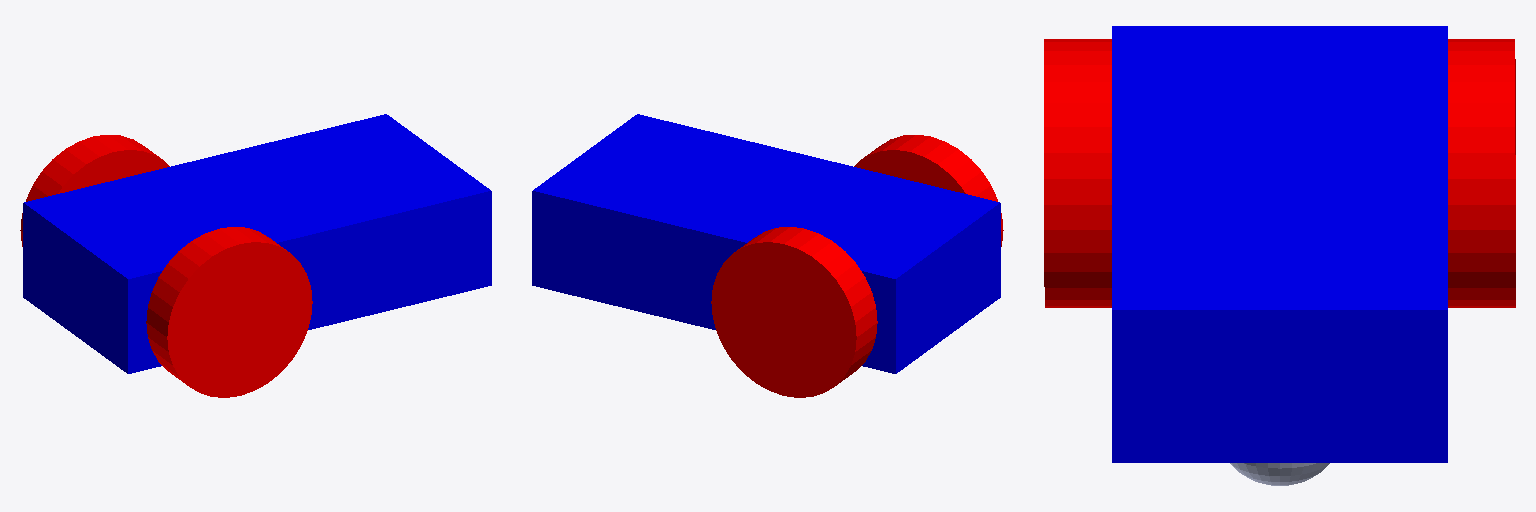
URDF robot description (vehicle_blue):
<robot name="vehicle_blue">
    <link name="caster">
        <inertial>
            <mass value="1"/>
            <origin xyz="0 0 0" rpy="0 -0 0"/>
            <inertia ixx="0.016" ixy="0" ixz="0" iyy="0.016" iyz="0" izz="0.016"/>
        </inertial>
        <visual>
            <origin xyz="0 0 0" rpy="0 -0 0"/>
            <geometry>
                <sphere radius="0.2"/>
            </geometry>
           <material name="">
                <color rgba="0.792156862745098 0.819607843137255 0.933333333333333 1" />
            </material>
        </visual>
        <collision>
            <origin xyz="0 0 0" rpy="0 -0 0"/>
            <geometry>
                <sphere radius="0.2"/>
            </geometry>
        </collision>
    </link>
    <link name="chassis">
        <inertial>
            <mass value="10.144"/>
            <origin xyz="0 0 0" rpy="0 -0 0"/>
            <inertia ixx="0.095329" ixy="0" ixz="0" iyy="0.381317" iyz="0" izz="0.476646"/>
        </inertial>
        <visual>
            <origin xyz="0 0 0" rpy="0 -0 0"/>
            <geometry>
                <box size="2 1 0.5"/>
            </geometry>
            <material name="chassisvisual">
                <texture/>
                <color rgba="0 0 1 1"/>
            </material>
        </visual>
        <collision>
            <origin xyz="0 0 0" rpy="0 -0 0"/>
            <geometry>
                <box size="2 1 0.5"/>
            </geometry>
        </collision>
    </link>
    <link name="left_wheel">
        <inertial>
            <mass value="2"/>
            <origin xyz="0 0 0" rpy="0 -0 0"/>
            <inertia ixx="0.043333" ixy="0" ixz="0" iyy="0.043333" iyz="0" izz="0.08"/>
        </inertial>
        <visual>
            <origin xyz="0 0 0" rpy="0 -0 0"/>
            <geometry>
                <cylinder radius="0.4" length="0.2"/>
            </geometry>
            <material name="left_wheelvisual">
                <texture/>
                <color rgba="1 0 0 1"/>
            </material>
        </visual>
        <collision>
            <origin xyz="0 0 0" rpy="0 -0 0"/>
            <geometry>
                <cylinder radius="0.4" length="0.2"/>
            </geometry>
        </collision>
    </link>
    <link name="right_wheel">
        <inertial>
            <mass value="2"/>
            <origin xyz="0 1.66533e-16 0" rpy="0 -0 0"/>
            <inertia ixx="0.043333" ixy="0" ixz="0" iyy="0.043333" iyz="0" izz="0.08"/>
        </inertial>
        <visual>
            <origin xyz="0 3.33067e-16 0" rpy="0 -0 0"/>
            <geometry>
                <cylinder radius="0.4" length="0.2"/>
            </geometry>
            <material name="right_wheelvisual">
                <texture/>
                <color rgba="1 0 0 1"/>
            </material>
        </visual>
        <collision>
            <origin xyz="0 3.33067e-16 0" rpy="0 -0 0"/>
            <geometry>
                <cylinder radius="0.4" length="0.2"/>
            </geometry>
        </collision>
    </link>
    <joint name="caster_wheel" type="floating">
        <origin xyz="0.8 0 -0.2" rpy="0 -0 0"/>
        <axis xyz="0 0 0"/>
        <parent link="chassis"/>
        <child link="caster"/>
    </joint>
    <joint name="left_wheel_joint" type="revolute">
        <origin xyz="-0.5 0.6 0" rpy="-1.5707 0 0"/>
        <axis xyz="0 9.63268e-05 1"/>
        <parent link="chassis"/>
        <child link="left_wheel"/>
        <dynamics damping="0" friction="0"/>
        <limit effort="30" velocity="30" lower="-1.79769e+308" upper="1.79769e+308"/>
    </joint>
    <joint name="right_wheel_joint" type="revolute">
        <origin xyz="-0.5 -0.6 0" rpy="-1.5707 0 0"/>
        <axis xyz="0 9.63268e-05 1"/>
        <parent link="chassis"/>
        <child link="right_wheel"/>
        <dynamics damping="0" friction="0"/>
        <limit effort="30" velocity="30" lower="-1.79769e+308" upper="1.79769e+308"/>
    </joint>
</robot>

--- Render facts (derived) ---
Views: 3 orthographic renders of the robot side by side, from view 1: azimuth 30°, elevation 25°; view 2: azimuth 150°, elevation 25°; view 3: azimuth 270°, elevation 25°.
Robot: vehicle_blue — 4 links, 3 joints (2 revolute, 1 floating); root link chassis; default pose: every joint at zero.
Links seen in each view (by area): view 1: chassis, right_wheel, left_wheel; view 2: chassis, left_wheel, right_wheel; view 3: chassis, left_wheel, right_wheel, caster.
Boxes of the visible links, x1,y1,x2,y2 form: chassis: [23, 114, 491, 373]; right_wheel: [146, 227, 312, 397]; left_wheel: [20, 135, 169, 246]; chassis: [532, 114, 1000, 373]; left_wheel: [711, 227, 877, 397]; right_wheel: [854, 135, 1003, 246]; chassis: [1112, 26, 1447, 462]; left_wheel: [1448, 39, 1515, 307]; right_wheel: [1044, 39, 1111, 307]; caster: [1230, 463, 1329, 485].
Bounding box of the posed robot: 2 × 1.4 × 0.8 m (x, y, z).
Geometry: primitives only (box / cylinder / sphere), no mesh files.
